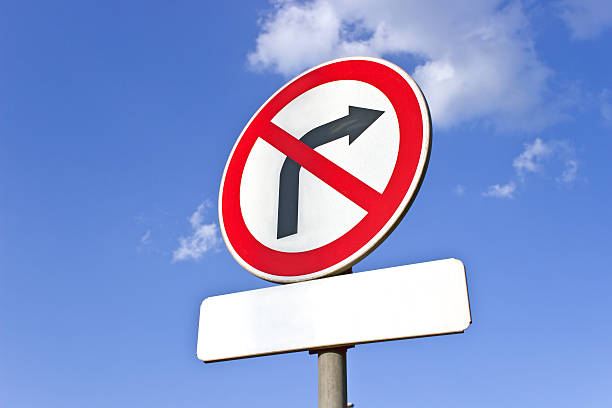saga_girilmez: (215, 58, 434, 281)
